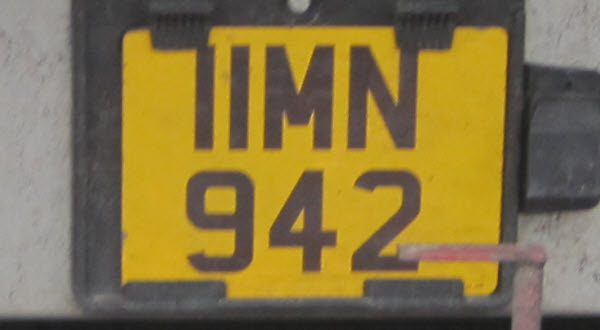license_plate: (121, 26, 508, 296)
